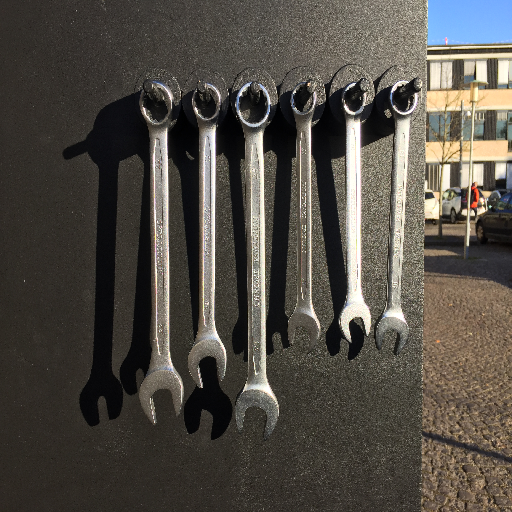bottom: (231, 382, 278, 440), (138, 371, 185, 428), (187, 341, 229, 390), (284, 308, 326, 351), (374, 312, 410, 354), (334, 306, 374, 343)
top: (233, 77, 274, 131), (136, 79, 176, 127), (285, 77, 320, 117), (190, 80, 222, 122), (388, 78, 419, 118), (340, 79, 368, 119)
